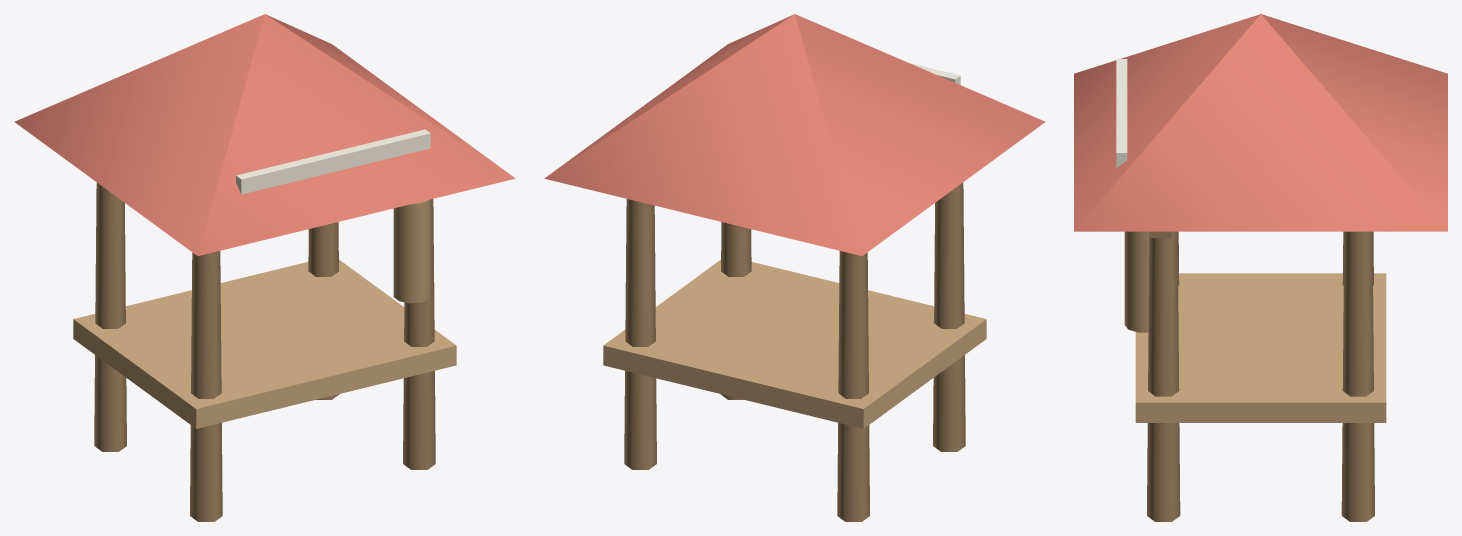
The model's file is pos_ronda.glb.
3 renders of one model, left to right at view 1: azimuth 30°, elevation 25°; view 2: azimuth 150°, elevation 25°; view 3: azimuth 270°, elevation 25°, orthographic.
Parts seen in each view (by area): view 1: pos_ronda; view 2: pos_ronda; view 3: pos_ronda.
Boxes of the visible parts, <box> form: pos_ronda: <box>14,14,515,521</box>; pos_ronda: <box>544,14,1045,521</box>; pos_ronda: <box>1074,14,1447,521</box>.
Size of the model in its own units: 1.34 by 1.78 by 1.34.
